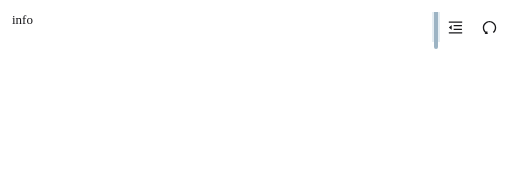
Test case: workstation splitter › restores the saved width after a reload and offers a reset
Click the button named "恢复默认布局" at [489, 27], box [474,12,504,42]
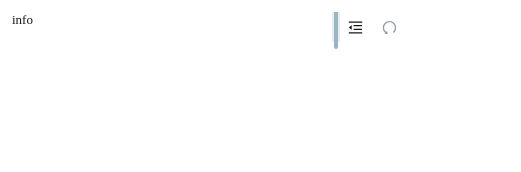
Expected: the button named "恢复默认布局" is disabled, [374,12,404,42]
